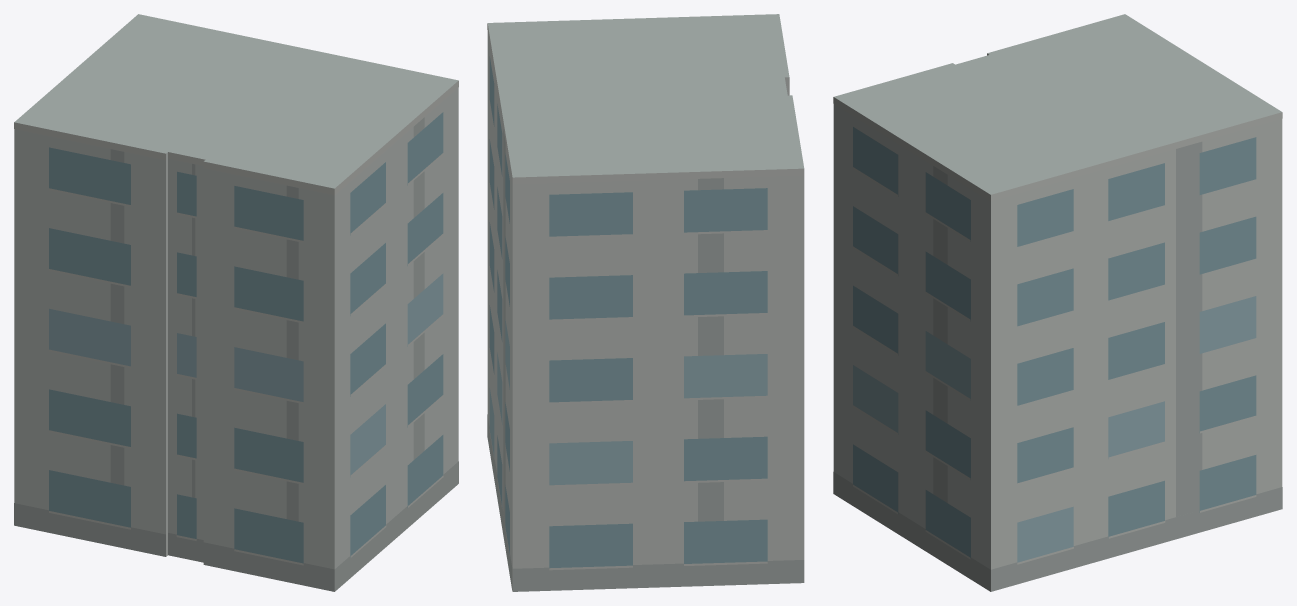
File: survey-upis-32942612.glb
3 renders of one model, left to right at view 1: azimuth 30°, elevation 25°; view 2: azimuth 150°, elevation 25°; view 3: azimuth 270°, elevation 25°, orthographic. The views are drawn at different scales.
Visible parts, largest first — view 1: survey-upis-32942612.tmp; view 2: survey-upis-32942612.tmp; view 3: survey-upis-32942612.tmp.
Part boxes in pixels (x1,y1,x2,y2): survey-upis-32942612.tmp: [14, 14, 458, 591]; survey-upis-32942612.tmp: [487, 14, 804, 591]; survey-upis-32942612.tmp: [833, 14, 1282, 591].
Size of the model in its own units: 14.08 by 14.4 by 14.76.
